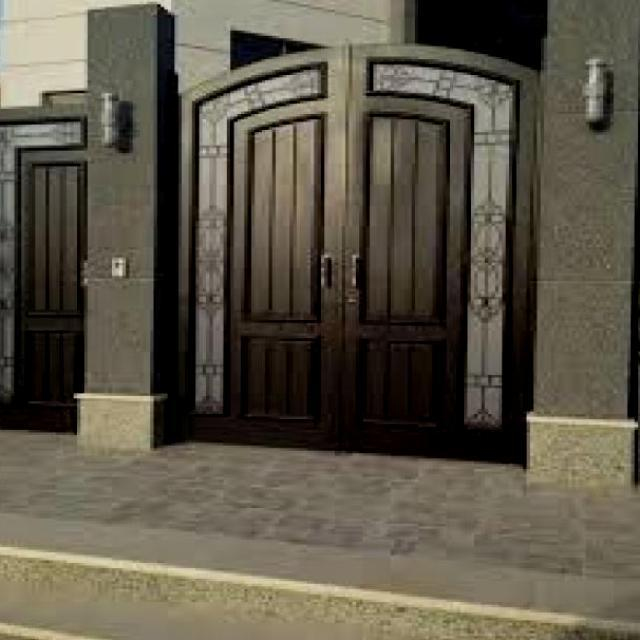door: (348, 38, 532, 465), (166, 43, 351, 461), (0, 104, 90, 444)
